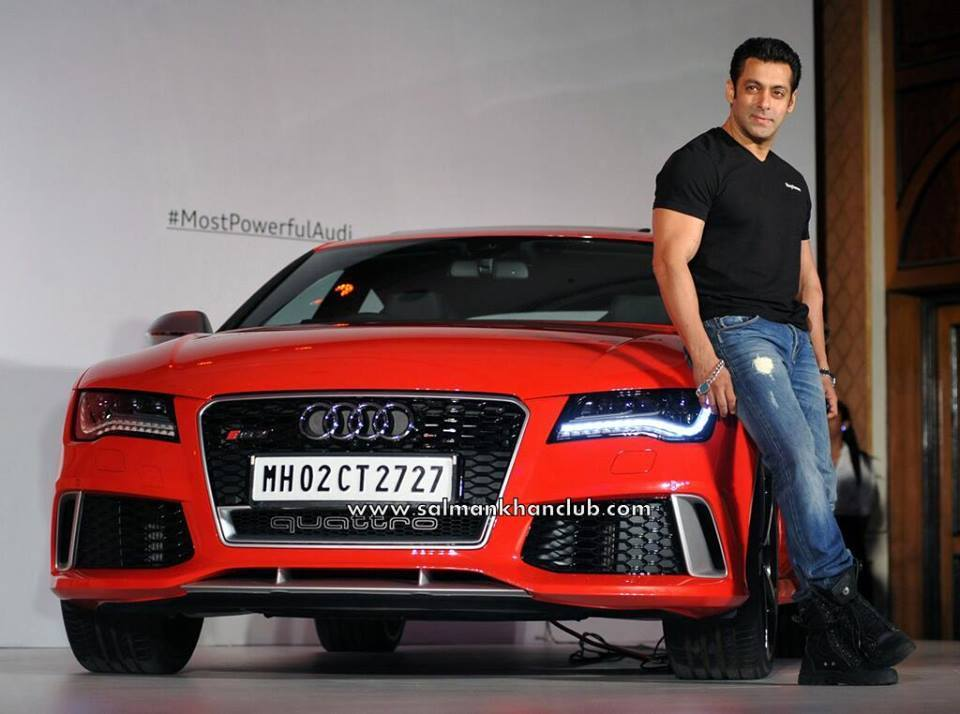number_plate: (246, 442, 472, 508)
